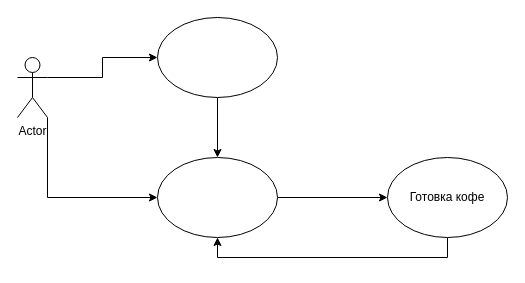
Image size: 525x283. Some labels were removed from this diagram. The centre of each missing label's shape, as x and y in pixels:
Ввод денег: point (217, 57)
Выбор кофе: point (217, 197)
